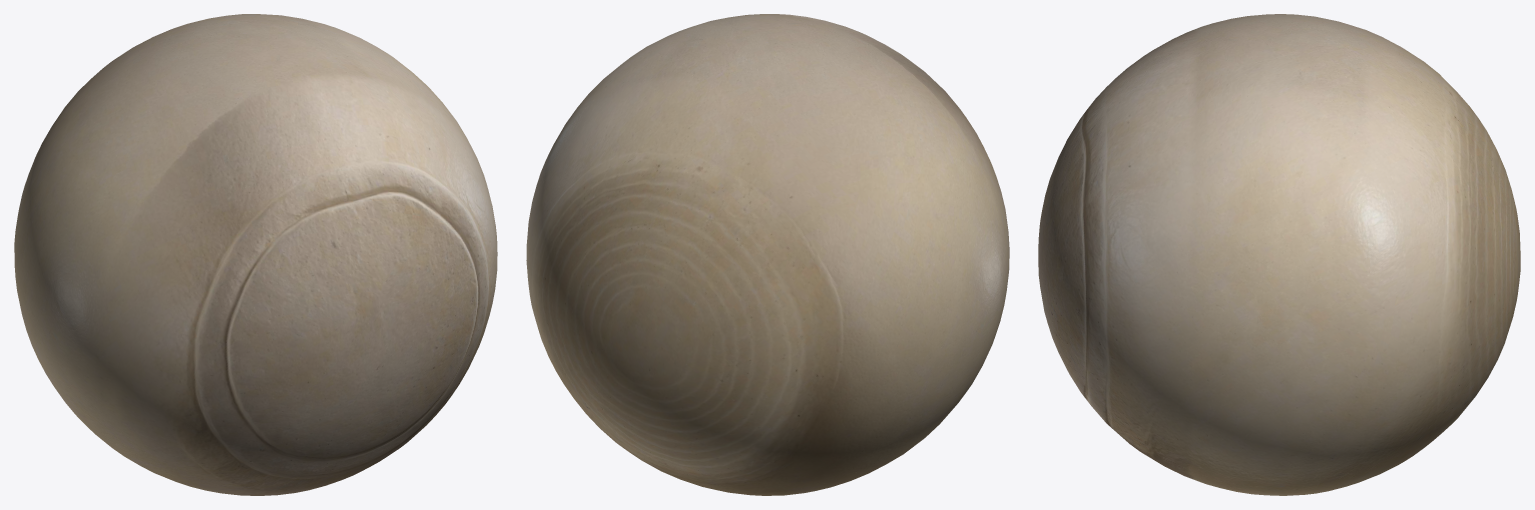
The picture shows the model from 3 angles, left to right: view 1: azimuth 30°, elevation 25°; view 2: azimuth 150°, elevation 25°; view 3: azimuth 270°, elevation 25°; orthographic projection.
Visible parts, largest first — view 1: Mesh1.0; view 2: Mesh1.0; view 3: Mesh1.0.
Boxes of the visible parts, x1,y1,x2,y2 form: Mesh1.0: (14,14,497,495); Mesh1.0: (526,14,1009,495); Mesh1.0: (1038,14,1520,495).
Size of the model in its own units: 201 by 200 by 201.
1 material, 1 textured.
